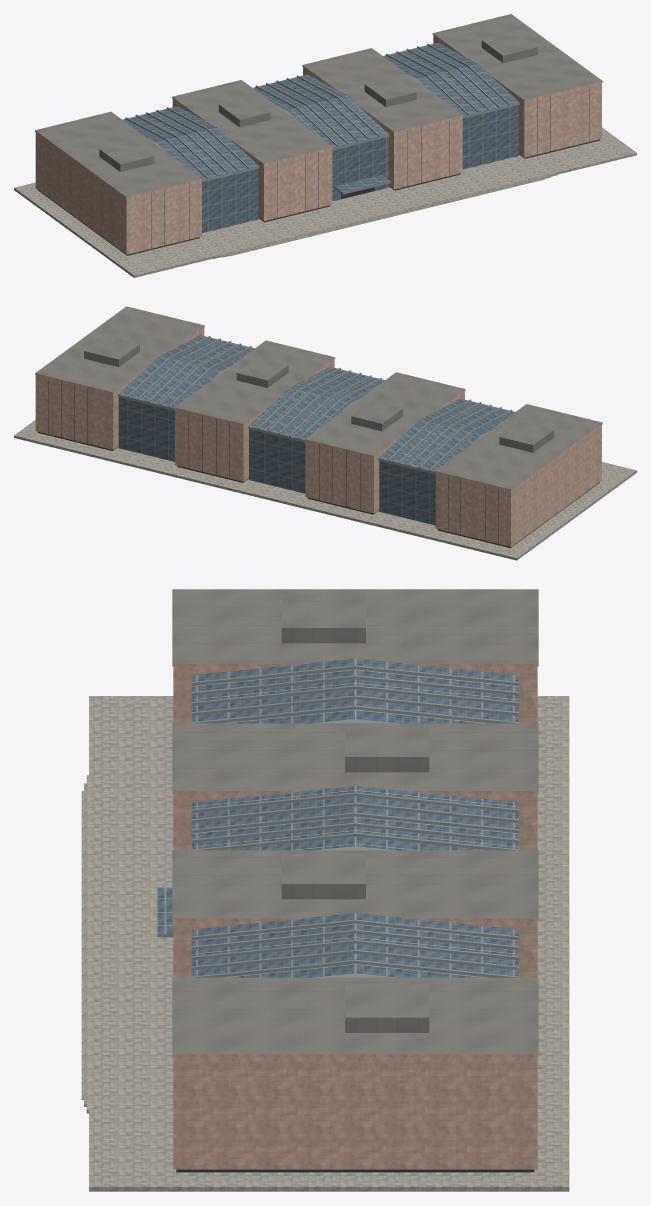
File: air_and_space_museum.glb
3 renders of one model, top to bottom at view 1: azimuth 30°, elevation 25°; view 2: azimuth 150°, elevation 25°; view 3: azimuth 270°, elevation 25°, orthographic. The views are drawn at different scales.
Visible parts, largest first — view 1: air_and_space_museum; view 2: air_and_space_museum; view 3: air_and_space_museum.
Part boxes in pixels (x1,y1,x2,y2): air_and_space_museum: (14, 14, 636, 277); air_and_space_museum: (14, 306, 636, 560); air_and_space_museum: (81, 589, 569, 1191).
Size of the model in its own units: 220 by 29.19 by 92.34.
5 materials, 5 textured.
